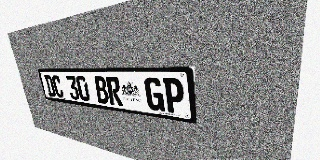0: (75, 76, 90, 102)
3: (66, 75, 80, 100)
B: (93, 76, 110, 104)
C: (51, 75, 64, 98)
D: (44, 75, 56, 97)
G: (144, 77, 165, 112)
P: (162, 77, 185, 115)
R: (105, 76, 123, 106)
